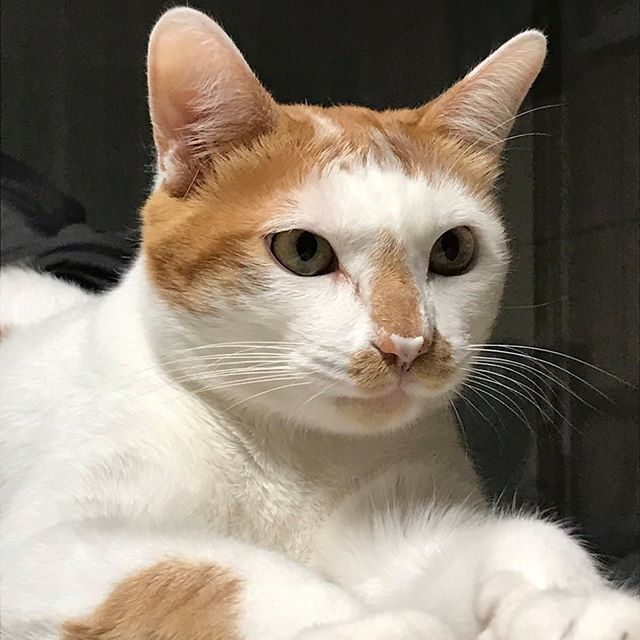cat: (133, 3, 563, 433)
